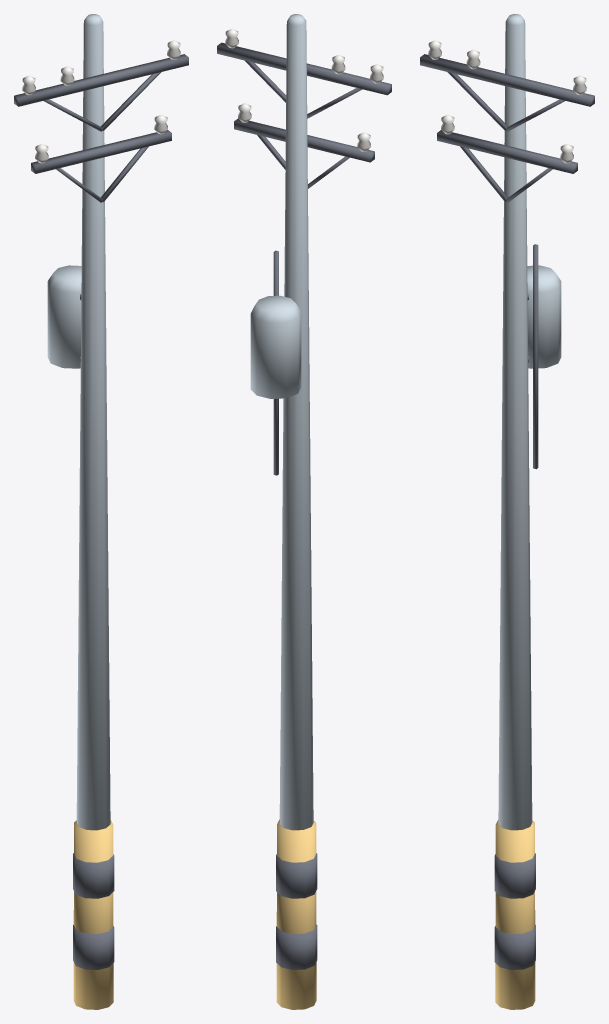
The model's file is sq-pole.glb.
The picture shows the model from 3 angles, left to right: view 1: azimuth 30°, elevation 25°; view 2: azimuth 150°, elevation 25°; view 3: azimuth 330°, elevation 25°; orthographic projection.
Visible parts, largest first — view 1: pole; view 2: pole; view 3: pole.
Part boxes in pixels (<box>): pole: <box>14,14,188,1009</box>; pole: <box>217,14,391,1009</box>; pole: <box>420,14,594,1009</box>.
Bounding box in the file's own units: 2 × 11.06 × 0.8966.
